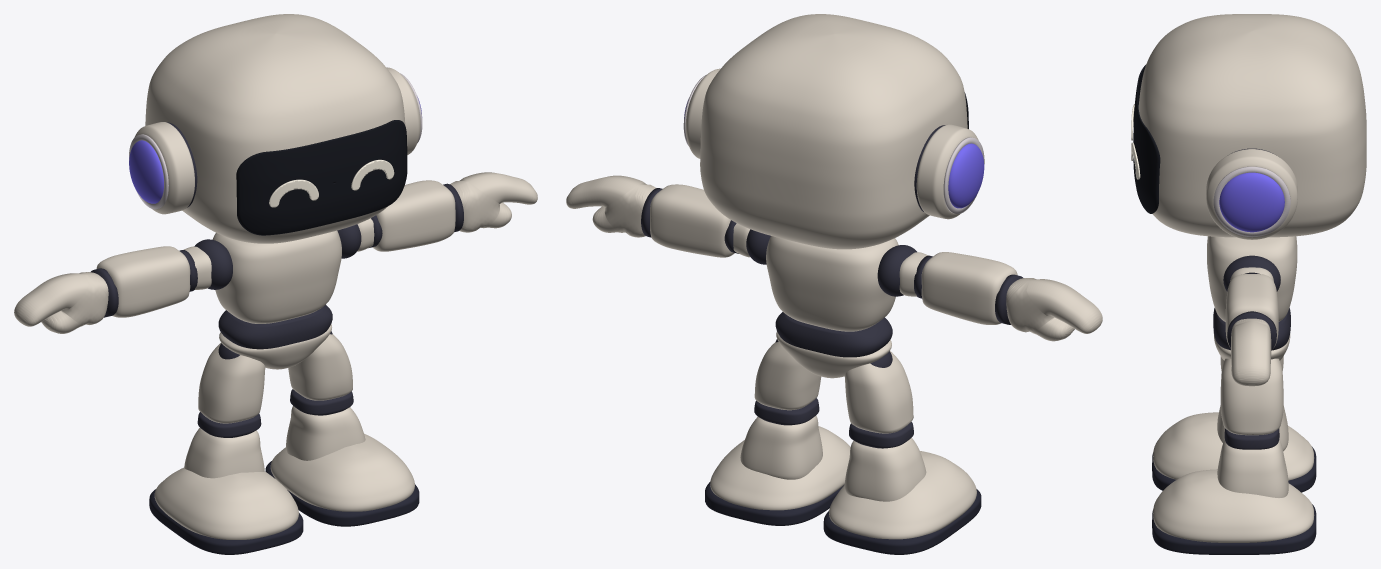
The model's file is robot_base.glb.
3 renders of one model, left to right at view 1: azimuth 30°, elevation 25°; view 2: azimuth 150°, elevation 25°; view 3: azimuth 270°, elevation 25°, orthographic. The views are drawn at different scales.
Parts seen in each view (by area): view 1: head_shell, face_screen, torso_shell, foot_shell_r, foot_shell_l, forearm_shell_r, forearm_shell_l, hand_shell_r, thigh_shell_r, hand_shell_l, shin_shell_l, shin_shell_r (+14 smaller); view 2: head_shell, torso_shell, foot_shell_r, foot_shell_l, forearm_shell_r, forearm_shell_l, hand_shell_r, thigh_shell_r, shin_shell_l, shin_shell_r, hand_shell_l, thigh_shell_l (+12 smaller); view 3: head_shell, foot_shell_l, foot_shell_r, torso_shell, thigh_shell_l, shin_shell_l, ear_disc_l, hand_shell_l, ear_casing_l, foot_sole_l, forearm_shell_l, face_screen (+8 smaller).
Part boxes in pixels (<box>): head_shell: <box>145,14,405,243</box>; face_screen: <box>236,120,407,235</box>; torso_shell: <box>212,230,341,323</box>; foot_shell_r: <box>154,467,298,539</box>; foot_shell_l: <box>270,433,414,511</box>; forearm_shell_r: <box>96,246,190,317</box>; forearm_shell_l: <box>372,180,455,251</box>; hand_shell_r: <box>14,272,108,333</box>; thigh_shell_r: <box>198,343,265,423</box>; hand_shell_l: <box>450,172,537,232</box>; shin_shell_l: <box>286,406,365,460</box>; shin_shell_r: <box>184,428,264,478</box>; head_shell: <box>700,14,967,249</box>; torso_shell: <box>766,236,898,331</box>; foot_shell_r: <box>829,451,976,539</box>; foot_shell_l: <box>710,426,850,510</box>; forearm_shell_r: <box>921,252,1017,324</box>; forearm_shell_l: <box>650,184,734,257</box>; hand_shell_r: <box>1006,278,1102,341</box>; thigh_shell_r: <box>844,351,913,433</box>; shin_shell_l: <box>740,415,822,479</box>; shin_shell_r: <box>844,437,926,501</box>; hand_shell_l: <box>566,175,656,237</box>; thigh_shell_l: <box>754,342,821,410</box>; head_shell: <box>1138,14,1366,237</box>; foot_shell_l: <box>1153,469,1314,542</box>; foot_shell_r: <box>1153,412,1314,480</box>; torso_shell: <box>1207,236,1297,321</box>; thigh_shell_l: <box>1220,358,1283,435</box>; shin_shell_l: <box>1217,440,1288,497</box>; ear_disc_l: <box>1219,172,1284,232</box>; hand_shell_l: <box>1231,318,1271,386</box>; ear_casing_l: <box>1206,149,1297,239</box>; foot_sole_l: <box>1152,504,1316,554</box>; forearm_shell_l: <box>1225,274,1278,348</box>; face_screen: <box>1133,65,1160,213</box>.
Size of the model in its own units: 4.61 by 4 by 1.81.
